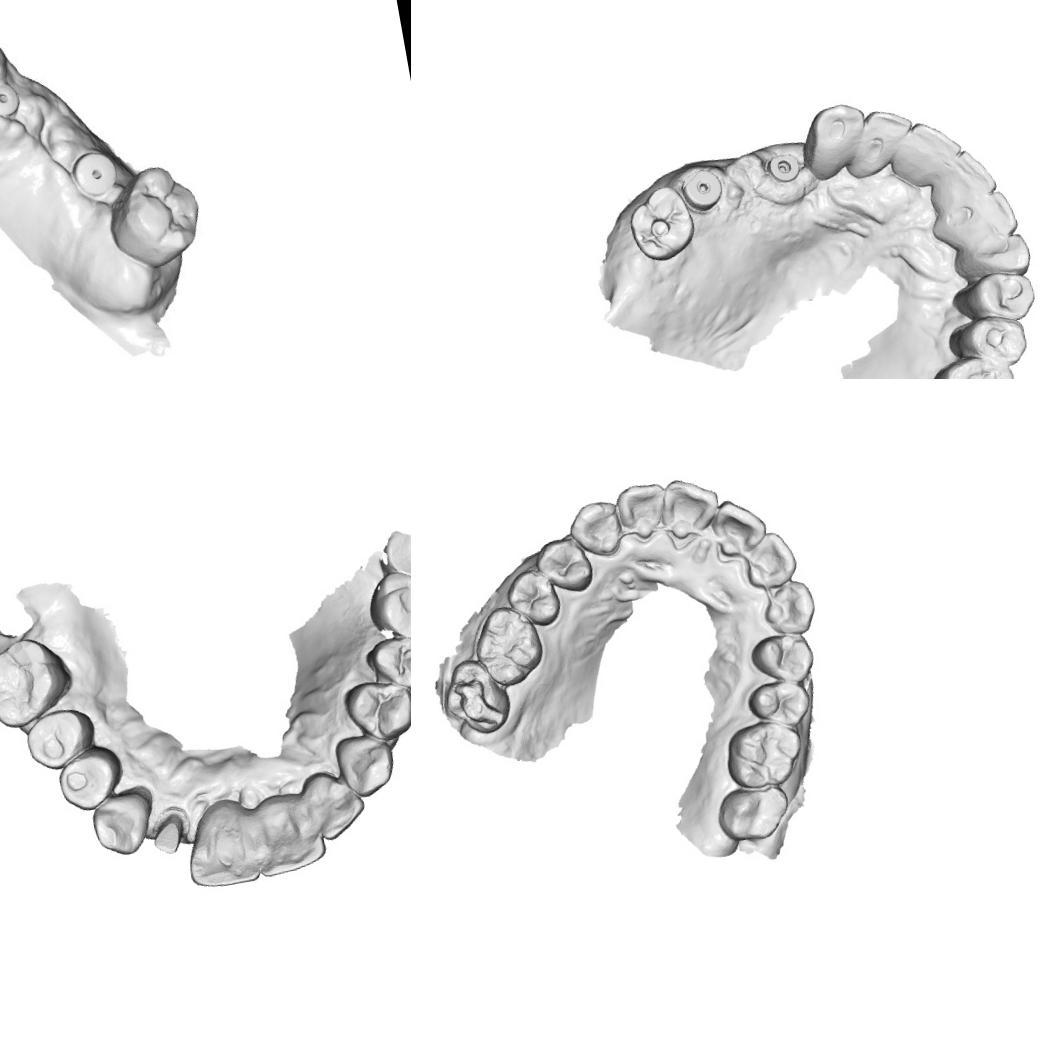canine: (792, 98, 872, 184), (86, 784, 162, 860), (948, 227, 1036, 287), (332, 729, 400, 801), (756, 574, 820, 640), (562, 496, 625, 563)
crown: (147, 810, 189, 858)
implant: (66, 136, 122, 201), (677, 165, 726, 214), (764, 148, 804, 188), (0, 81, 29, 122)
incisor: (176, 792, 267, 893), (246, 786, 328, 880), (297, 764, 370, 844), (654, 470, 726, 550), (952, 186, 1026, 252), (706, 492, 772, 560), (898, 114, 966, 176), (737, 527, 801, 592), (611, 478, 672, 544), (854, 101, 918, 160), (940, 144, 1001, 202)
inlay: (449, 672, 507, 734)
molar: (114, 158, 204, 264), (0, 630, 79, 731), (466, 598, 549, 691), (719, 714, 808, 793), (622, 179, 700, 266), (712, 780, 794, 846), (360, 562, 411, 650), (920, 347, 1023, 379)
premolar: (52, 739, 130, 816), (22, 704, 102, 774), (958, 264, 1040, 330), (340, 672, 411, 748), (954, 308, 1031, 374), (744, 626, 819, 690), (530, 531, 597, 598), (501, 563, 564, 632), (744, 675, 815, 733), (362, 629, 411, 698)
